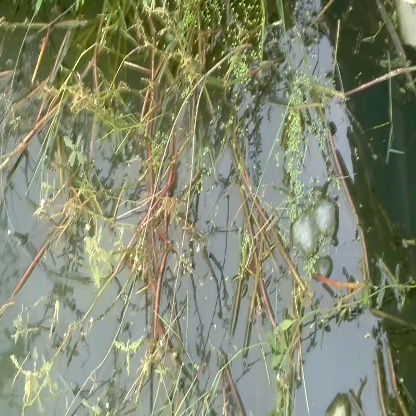plastic-bag: (280, 191, 346, 281)
